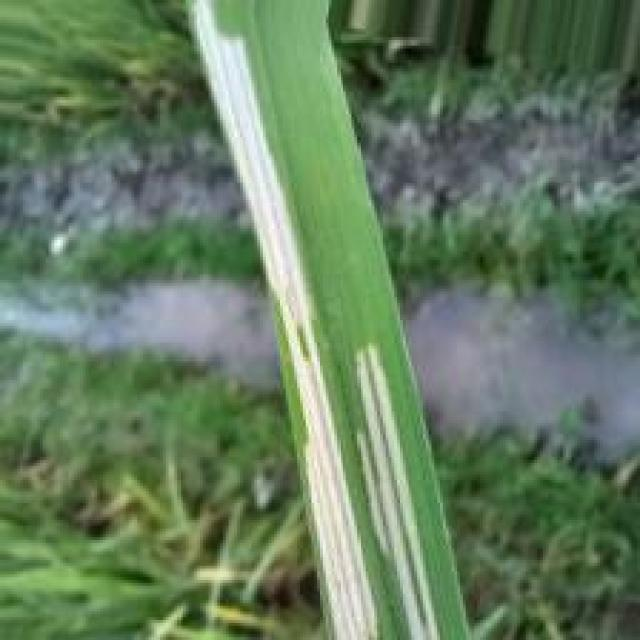Rice_Hispa: (187, 0, 385, 640), (352, 347, 443, 640)
